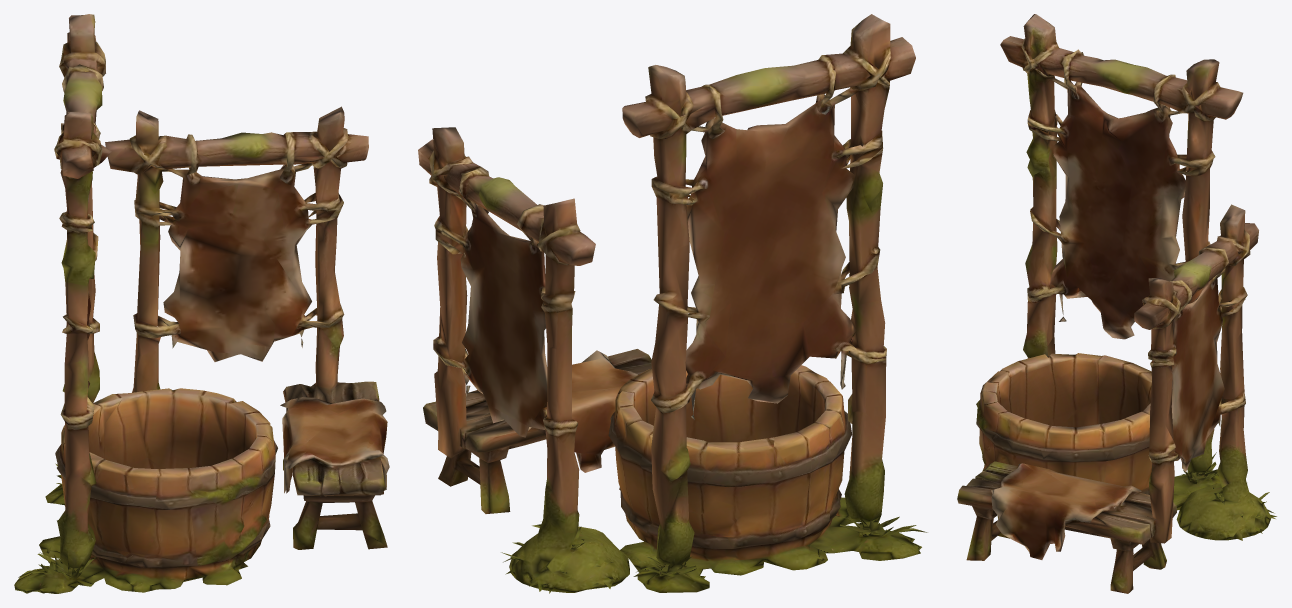
The model's file is town_station_tannery_rack.glb.
The picture shows the model from 3 angles, left to right: view 1: azimuth 30°, elevation 25°; view 2: azimuth 150°, elevation 25°; view 3: azimuth 270°, elevation 25°; orthographic projection. The views are drawn at different scales.
Visible parts, largest first — view 1: tripo_node_2aa941b2-7f15-46db-9e37-171c77b515ae; view 2: tripo_node_2aa941b2-7f15-46db-9e37-171c77b515ae; view 3: tripo_node_2aa941b2-7f15-46db-9e37-171c77b515ae.
Boxes of the visible parts, x1=… form: tripo_node_2aa941b2-7f15-46db-9e37-171c77b515ae: x1=14, y1=14, x2=389, y2=593; tripo_node_2aa941b2-7f15-46db-9e37-171c77b515ae: x1=418, y1=14, x2=927, y2=593; tripo_node_2aa941b2-7f15-46db-9e37-171c77b515ae: x1=957, y1=14, x2=1276, y2=593.
Bounding box in the file's own units: 2.72 × 3 × 2.04.
1 material, 1 textured.
